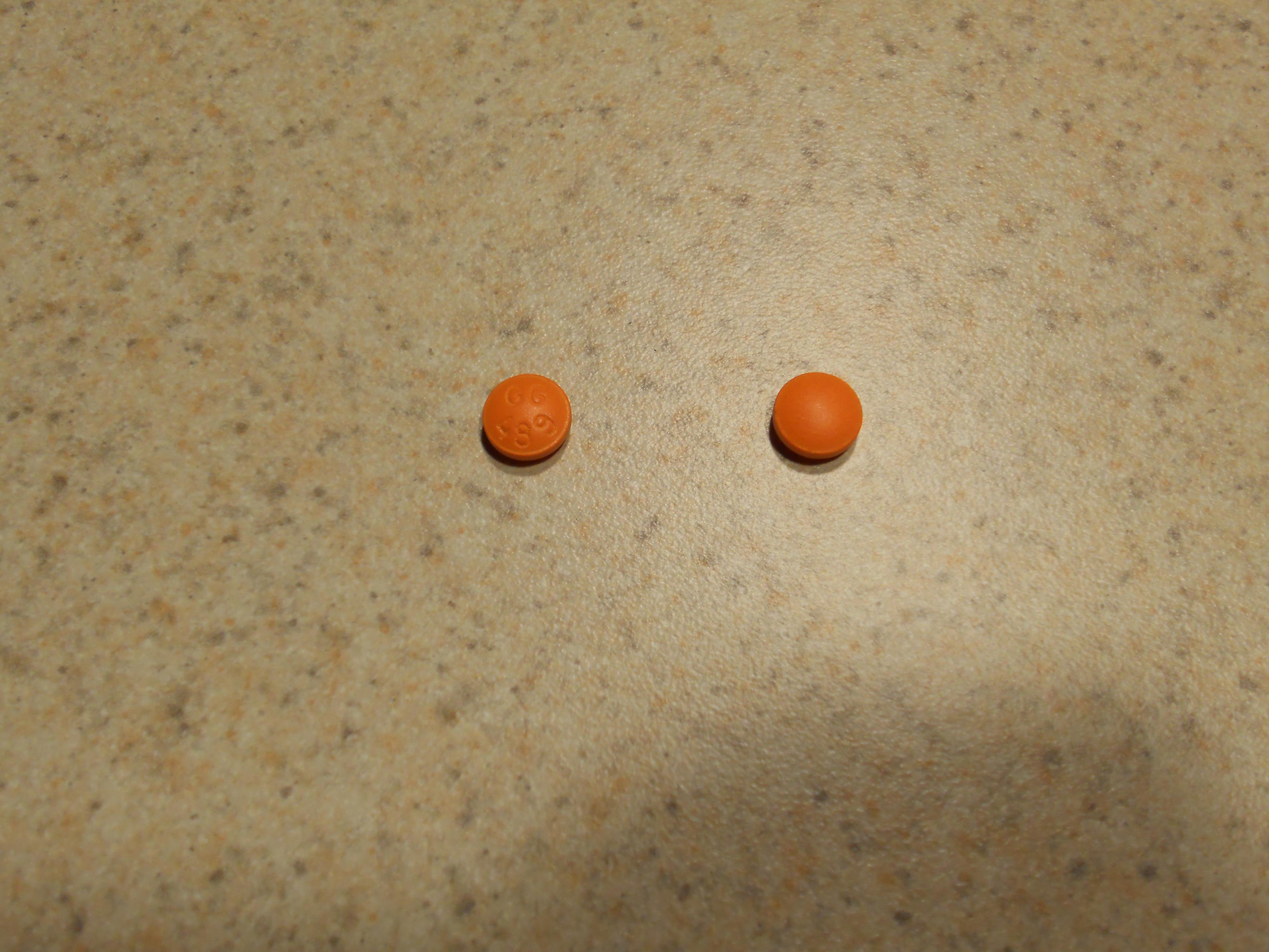Pill: (765, 365, 868, 468), (474, 367, 577, 468)
